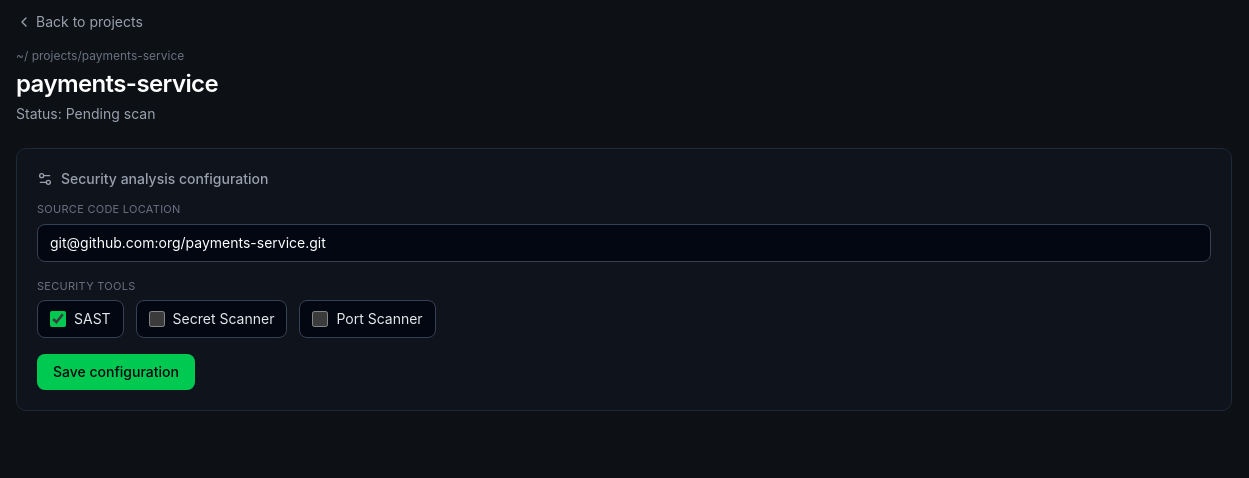
Scenario: ProjectDetailView › rejects saving with no security tools selected
Click the checkbox labelled "SAST".
click(58, 319)  # box [50,311,66,327]
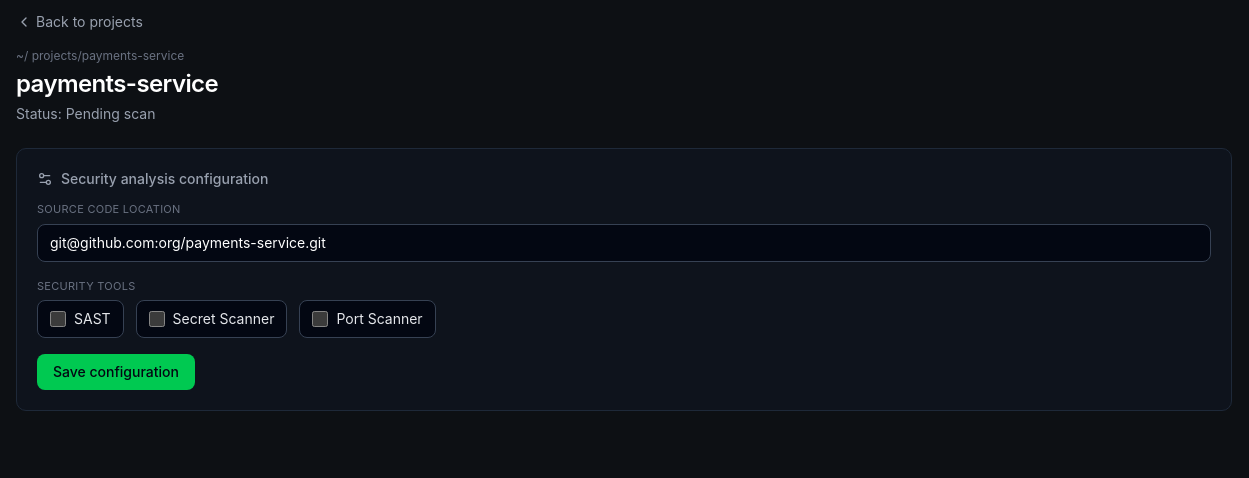
Submit the form, box [37,201,1211,390]
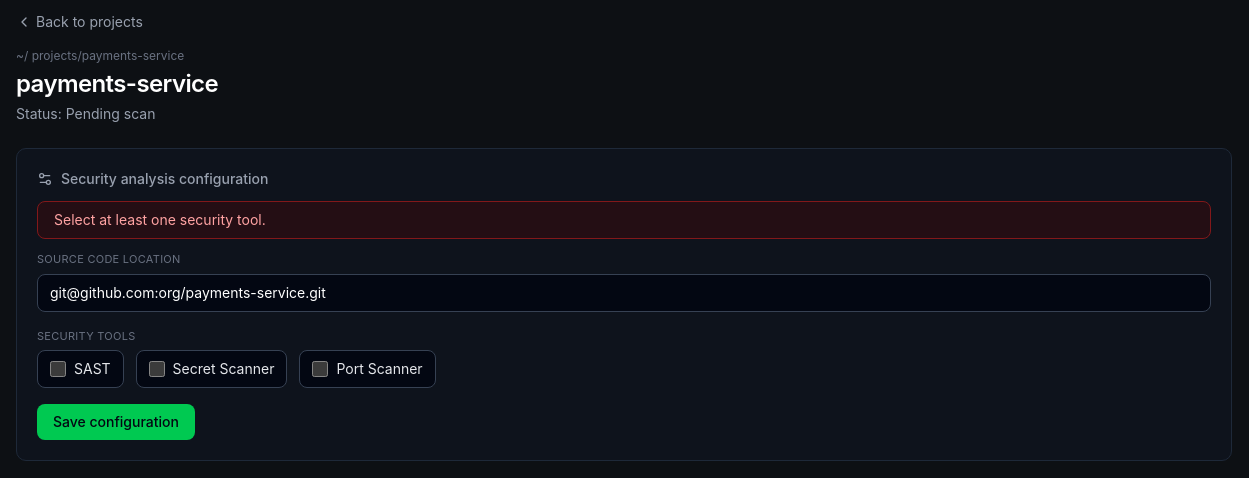
Check: the text "Select at least one security tool" is shown, box [54,211,266,228]
